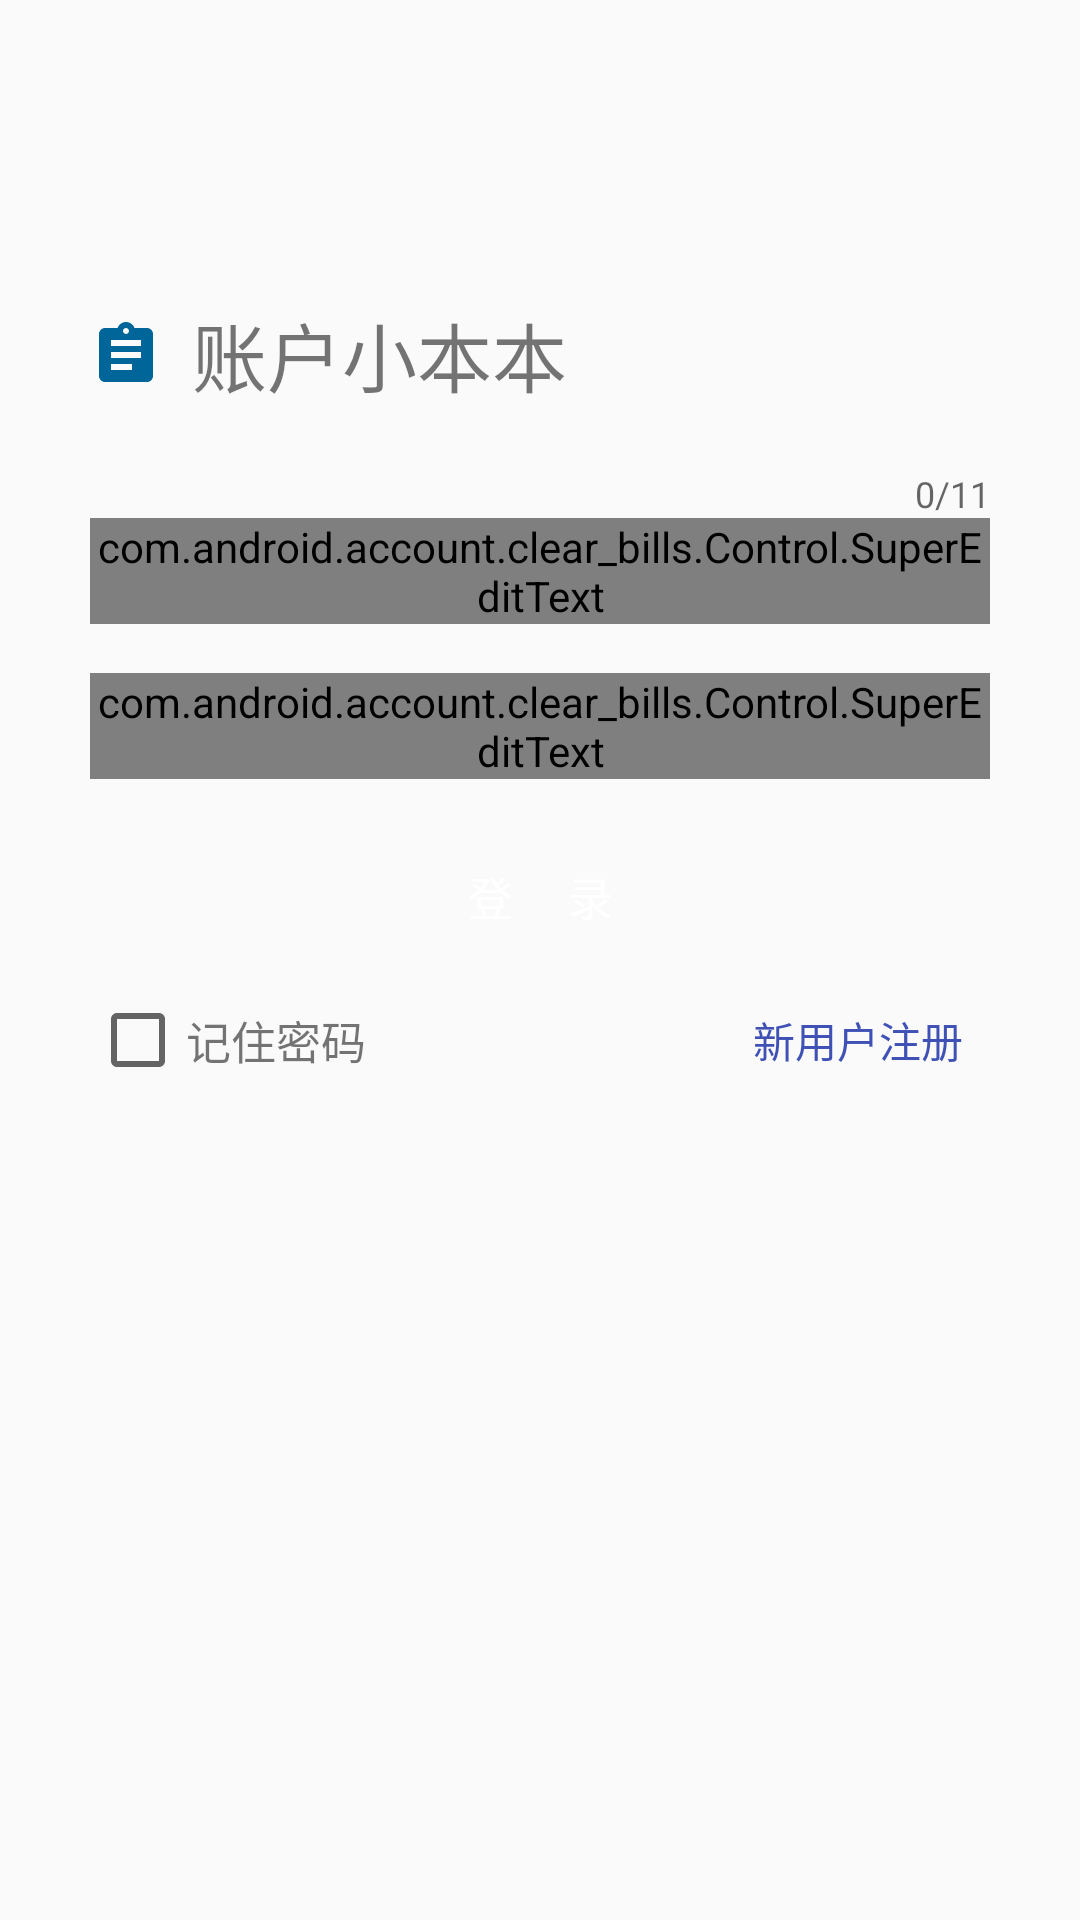

Icons on this 1080 × 1920 Android screen, each with its box as (x1, y1, x2, y2):
assignment: (99, 322, 153, 382)
